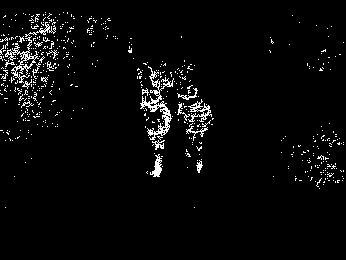person: (138, 86, 174, 182), (176, 86, 212, 180)
